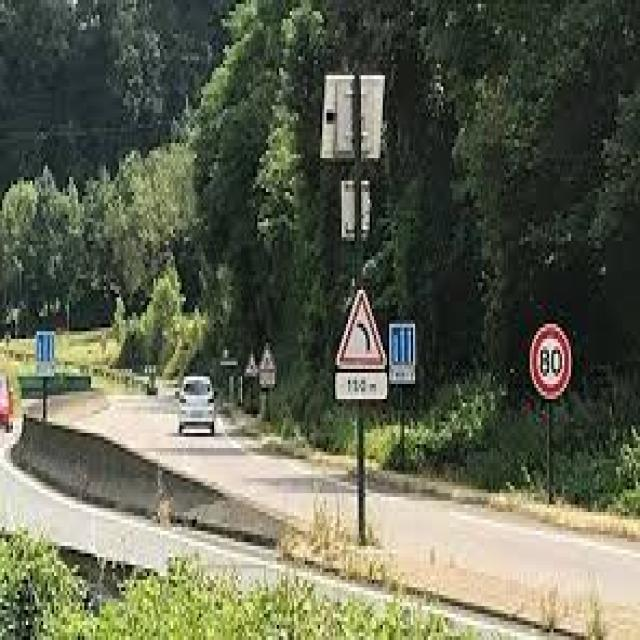speed: (528, 320, 573, 399)
